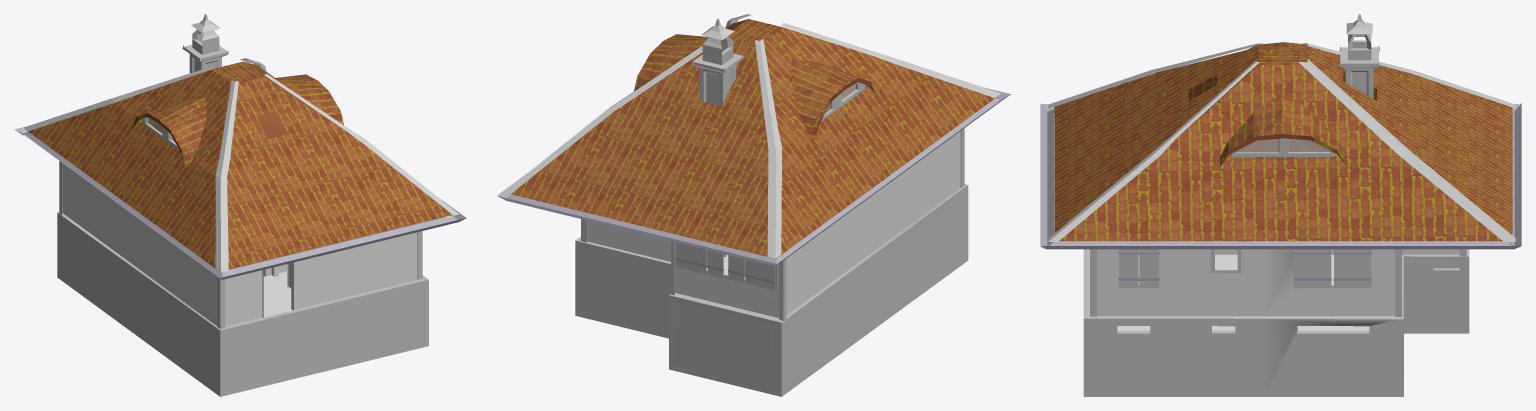
The model's file is Apartament outside.fbx.
The picture shows the model from 3 angles, left to right: view 1: azimuth 30°, elevation 25°; view 2: azimuth 150°, elevation 25°; view 3: azimuth 270°, elevation 25°; orthographic projection. The views are drawn at different scales.
Visible parts, largest first — view 1: MESH_ROOF, MESH_Basement, MESH_WALLS, MESH_DECO_OUT_COLT_Roof, MESH_DECO_OUT_Burlan3, MESH_HORN1, MESH_DECO_OUT_Burlan1, MESH_DECO_OUT_COLT5; view 2: MESH_ROOF, MESH_Basement, MESH_WALLS, MESH_DECO_OUT_COLT_Roof, MESH_HORN1, MESH_DECO_OUT_Burlan4, MESH_DECO_OUT_Burlan1, MESH_DECO_OBLON_L_Balcon.M, MESH_DECO_OBLON_R_Balcon.M, MESH_DECO_OUT_COLT4; view 3: MESH_ROOF, MESH_Basement, MESH_WALLS, MESH_DECO_OUT_COLT_Roof, MESH_DECO_OUT_Burlan2, MESH_HORN1, MESH_DECO_OUT_Burlan3, MESH_DECO_OBLON_R_Dormitor, MESH_DECO_OBLON_L_Dormitor, MESH_DECO_OUT_Burlan4, MESH_DECO_OBLON_R_Bucatarie, MESH_DECO_OBLON_L_Bucatarie (+2 smaller).
Boxes of the visible parts, bbox=[...] form: MESH_ROOF: bbox=[26, 61, 452, 271]; MESH_Basement: bbox=[57, 212, 428, 396]; MESH_WALLS: bbox=[62, 163, 417, 326]; MESH_DECO_OUT_COLT_Roof: bbox=[24, 58, 458, 272]; MESH_DECO_OUT_Burlan3: bbox=[219, 215, 466, 279]; MESH_HORN1: bbox=[182, 14, 228, 73]; MESH_DECO_OUT_Burlan1: bbox=[18, 130, 222, 277]; MESH_DECO_OUT_COLT5: bbox=[217, 276, 225, 328]; MESH_ROOF: bbox=[509, 19, 996, 258]; MESH_Basement: bbox=[575, 184, 968, 396]; MESH_WALLS: bbox=[587, 131, 960, 317]; MESH_DECO_OUT_COLT_Roof: bbox=[504, 14, 1000, 258]; MESH_HORN1: bbox=[692, 18, 743, 106]; MESH_DECO_OUT_Burlan4: bbox=[497, 194, 779, 266]; MESH_DECO_OUT_Burlan1: bbox=[776, 95, 1008, 264]; MESH_DECO_OBLON_L_Balcon.M: bbox=[675, 242, 706, 274]; MESH_DECO_OBLON_R_Balcon.M: bbox=[745, 259, 777, 290]; MESH_DECO_OUT_COLT4: bbox=[779, 259, 786, 320]; MESH_ROOF: bbox=[1054, 42, 1512, 241]; MESH_Basement: bbox=[1083, 249, 1469, 396]; MESH_WALLS: bbox=[1097, 249, 1459, 315]; MESH_DECO_OUT_COLT_Roof: bbox=[1048, 43, 1515, 241]; MESH_DECO_OUT_Burlan2: bbox=[1042, 241, 1518, 249]; MESH_HORN1: bbox=[1339, 14, 1379, 98]; MESH_DECO_OUT_Burlan3: bbox=[1040, 104, 1053, 249]; MESH_DECO_OBLON_R_Dormitor: bbox=[1333, 249, 1371, 287]; MESH_DECO_OBLON_L_Dormitor: bbox=[1294, 249, 1331, 287]; MESH_DECO_OUT_Burlan4: bbox=[1509, 103, 1521, 248]; MESH_DECO_OBLON_R_Bucatarie: bbox=[1139, 249, 1159, 287]; MESH_DECO_OBLON_L_Bucatarie: bbox=[1118, 249, 1138, 287].
Size of the model in its own units: 1768 by 1839 by 2496.
